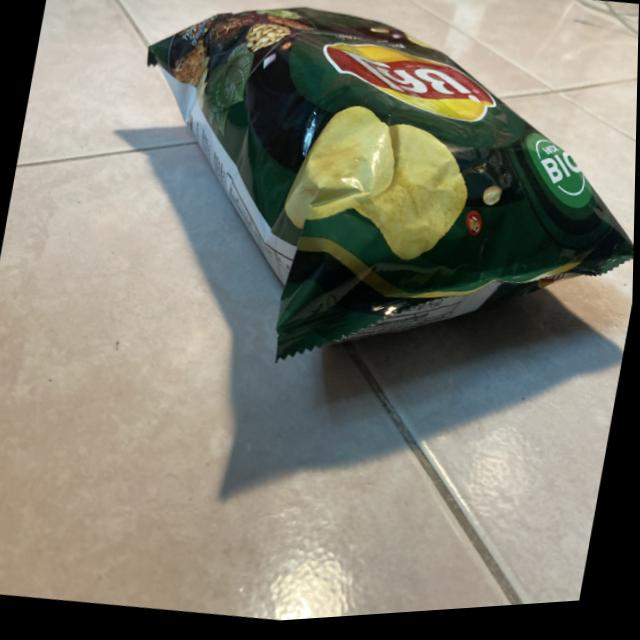Laygreen: (62, 0, 640, 453)
